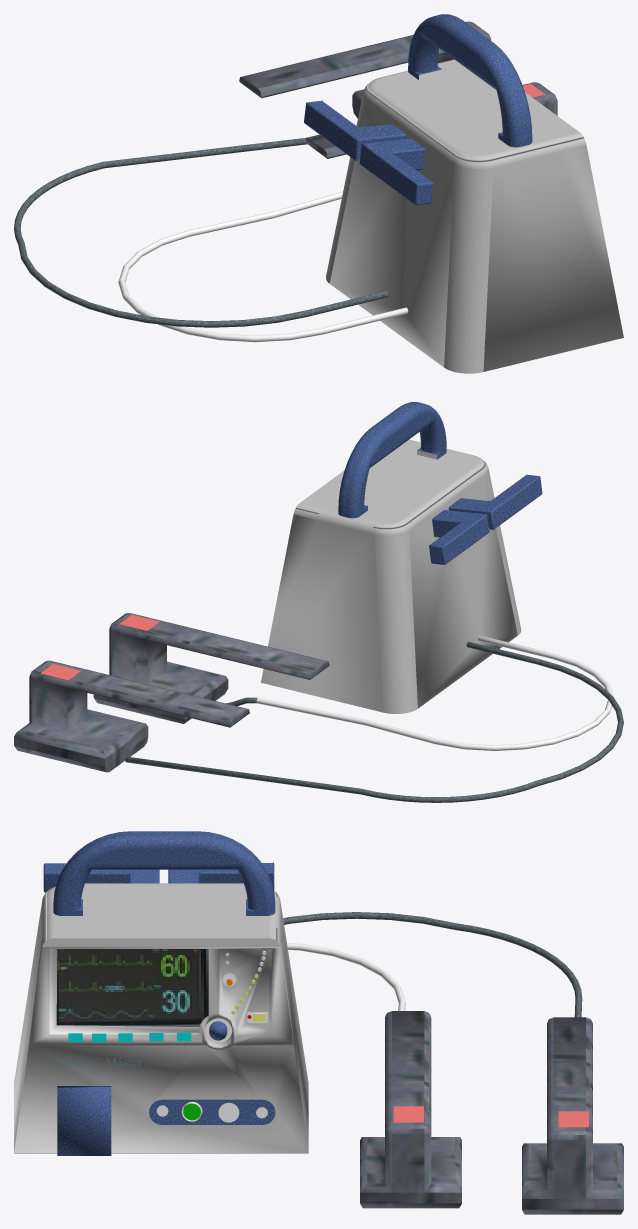
The picture shows the model from 3 angles, top to bottom: view 1: azimuth 30°, elevation 25°; view 2: azimuth 150°, elevation 25°; view 3: azimuth 270°, elevation 25°; orthographic projection. The views are drawn at different scales.
Visible parts, largest first — view 1: Mesh2_Quartz_Light_Grey_0, Mesh2_Formica_Blue_0, Mesh2_Metal_Steel_Textured_0, Mesh2_Formica_Speckled_Grey_0, Mesh2_FrontColor_0; view 2: Mesh2_Quartz_Light_Grey_0, Mesh2_Metal_Steel_Textured_0, Mesh2_Formica_Blue_0, Mesh2_Formica_Speckled_Grey_0, Mesh2_FrontColor_0, Mesh2_Color_A04_0; view 3: Mesh2_Quartz_Light_Grey_0, Mesh2_Metal_Steel_Textured_0, Mesh2_Formica_Blue_0, Mesh2_screen_0, Mesh2_FrontColor_0, Mesh2_Formica_Speckled_Grey_0, Mesh2_Color_A04_0, Mesh2_Color_H06_0.
Part boxes in pixels (x1,y1,x2,y2): Mesh2_Quartz_Light_Grey_0: (326, 59, 623, 373); Mesh2_Formica_Blue_0: (304, 14, 532, 204); Mesh2_Metal_Steel_Textured_0: (239, 21, 557, 158); Mesh2_Formica_Speckled_Grey_0: (14, 138, 388, 327); Mesh2_FrontColor_0: (118, 69, 441, 342); Mesh2_Quartz_Light_Grey_0: (261, 439, 521, 713); Mesh2_Metal_Steel_Textured_0: (14, 613, 329, 772); Mesh2_Formica_Blue_0: (338, 402, 542, 564); Mesh2_Formica_Speckled_Grey_0: (125, 641, 623, 802); Mesh2_FrontColor_0: (256, 450, 613, 750); Mesh2_Color_A04_0: (40, 614, 159, 680); Mesh2_Quartz_Light_Grey_0: (14, 883, 308, 1153); Mesh2_Metal_Steel_Textured_0: (360, 1011, 623, 1214); Mesh2_Formica_Blue_0: (43, 831, 275, 1155); Mesh2_screen_0: (56, 949, 208, 1026); Mesh2_FrontColor_0: (49, 943, 405, 1122); Mesh2_Formica_Speckled_Grey_0: (283, 912, 582, 1017); Mesh2_Color_A04_0: (393, 1106, 588, 1127); Mesh2_Color_H06_0: (68, 1032, 191, 1042).
Size of the model in its own units: 65.57 by 31.76 by 62.1.
